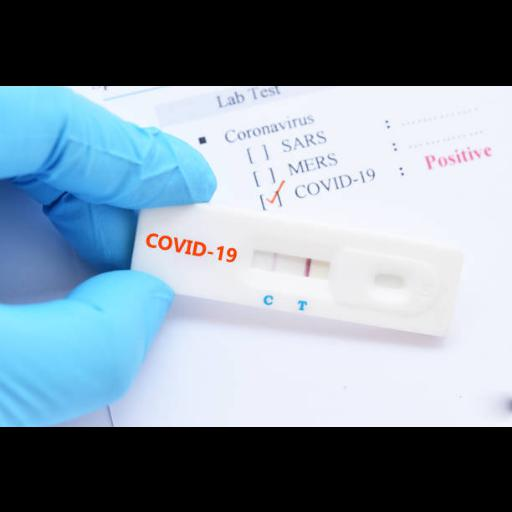Pos: (126, 192, 461, 335)
